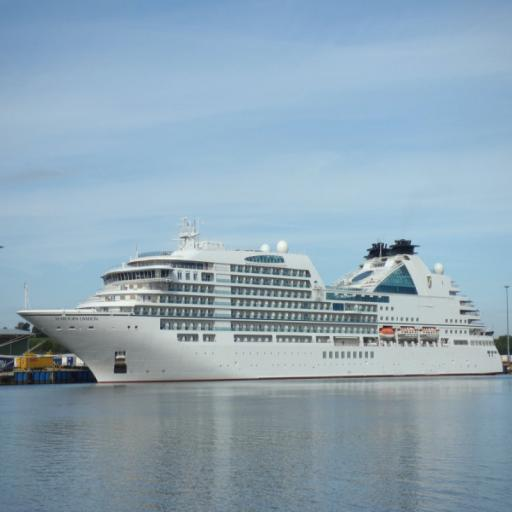cruises: (19, 215, 506, 383)
